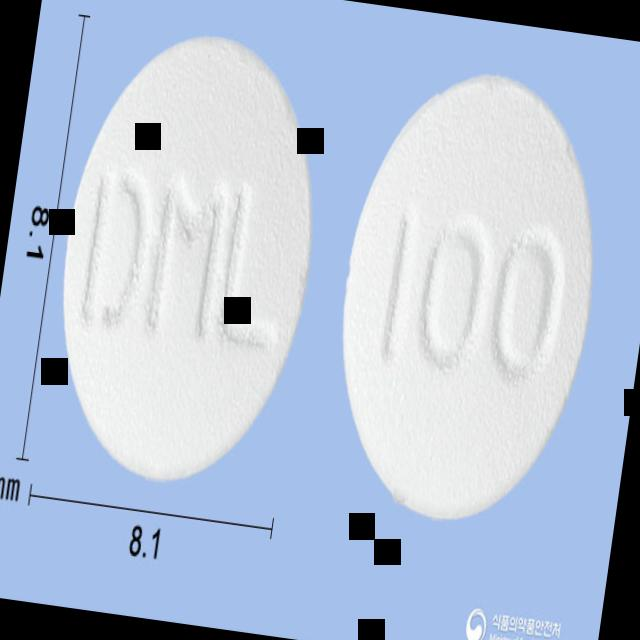Ciprofloxacin Tab- Pharma: (37, 16, 339, 497), (316, 57, 620, 534)
